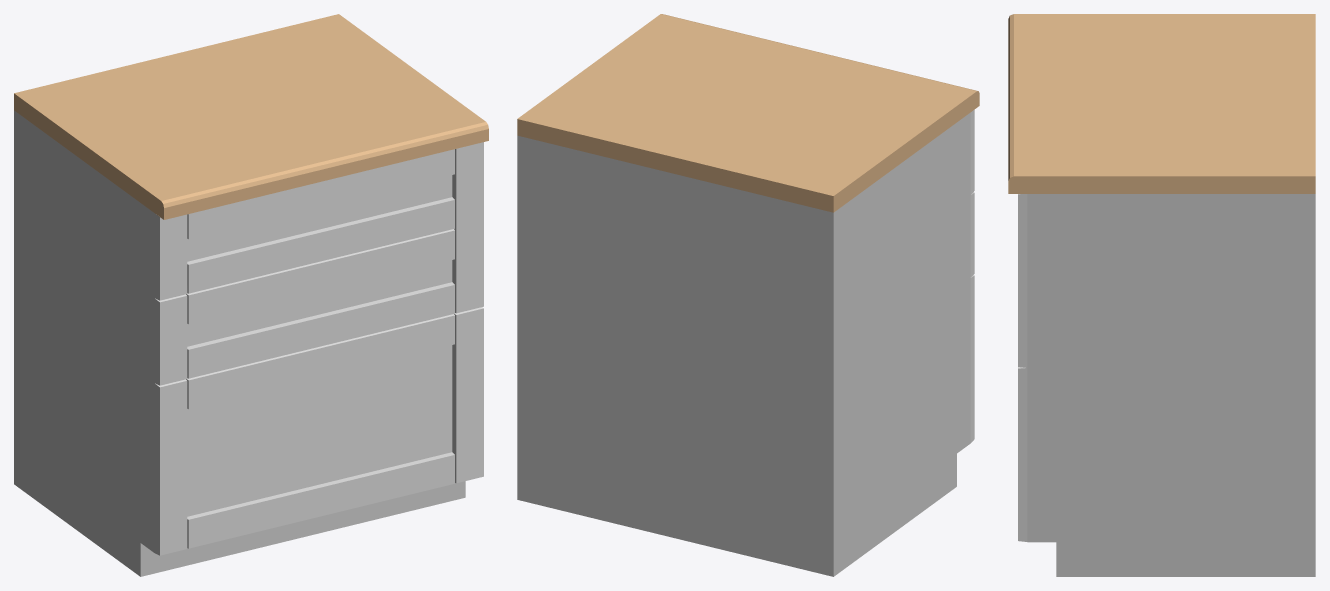
File: floor_unit_wide.dae
The picture shows the model from 3 angles, left to right: view 1: azimuth 30°, elevation 25°; view 2: azimuth 150°, elevation 25°; view 3: azimuth 270°, elevation 25°; orthographic projection. The views are drawn at different scales.
Visible parts, largest first — view 1: cover_small_drawers.001, Floor_unit_wide.001, CounterTop_Sink.001; view 2: Floor_unit_wide.001, CounterTop_Sink.001, cover_small_drawers.001; view 3: Floor_unit_wide.001, CounterTop_Sink.001, cover_small_drawers.001.
Boxes of the visible parts, x1,y1,x2,y2 form: cover_small_drawers.001: (154,142,483,555); Floor_unit_wide.001: (14,110,465,576); CounterTop_Sink.001: (14,14,488,219); Floor_unit_wide.001: (517,112,970,576); CounterTop_Sink.001: (517,14,979,212); cover_small_drawers.001: (970,110,974,442); Floor_unit_wide.001: (1027,194,1315,576); CounterTop_Sink.001: (1008,14,1315,193); cover_small_drawers.001: (1018,194,1027,541).
Bounding box in the file's own units: 0.8 × 0.64 × 0.92.
